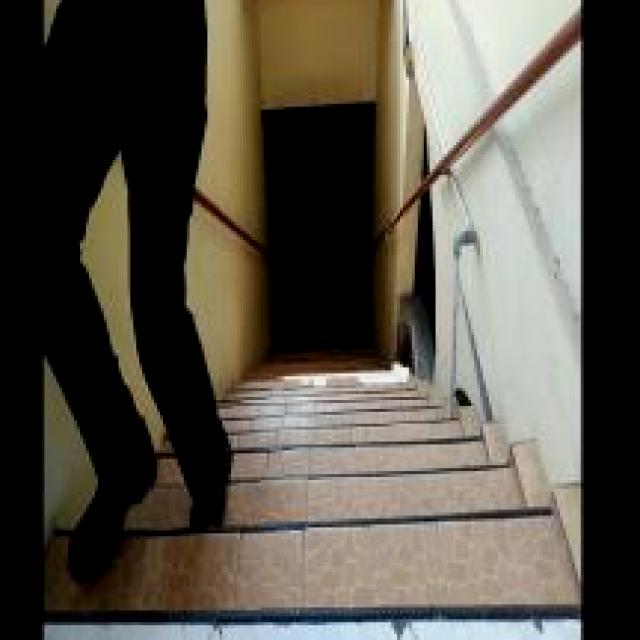downstair: (247, 368, 487, 576)
